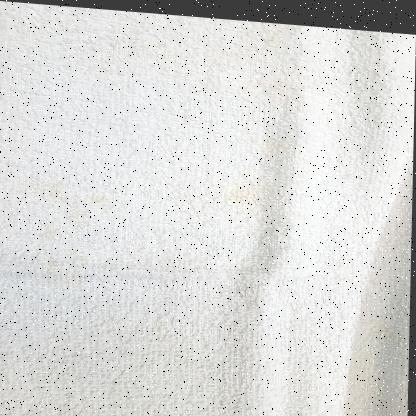spot: (53, 182, 111, 232), (31, 248, 98, 288), (219, 163, 266, 202), (256, 16, 304, 44), (14, 175, 70, 196), (29, 219, 64, 243)
